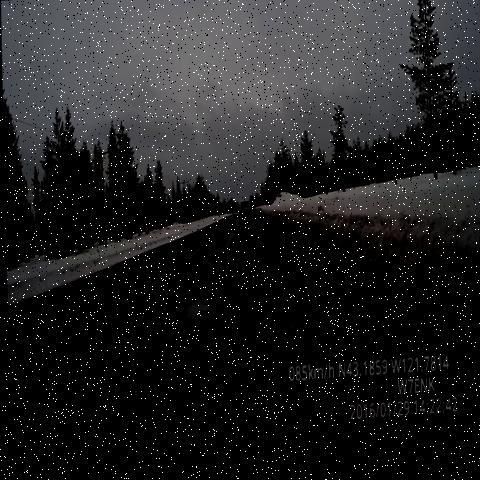pothole: (114, 274, 216, 391), (196, 250, 224, 278)
